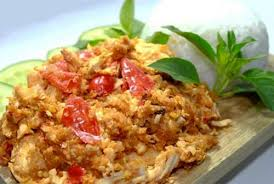ayam_geprek: (18, 41, 215, 167)
